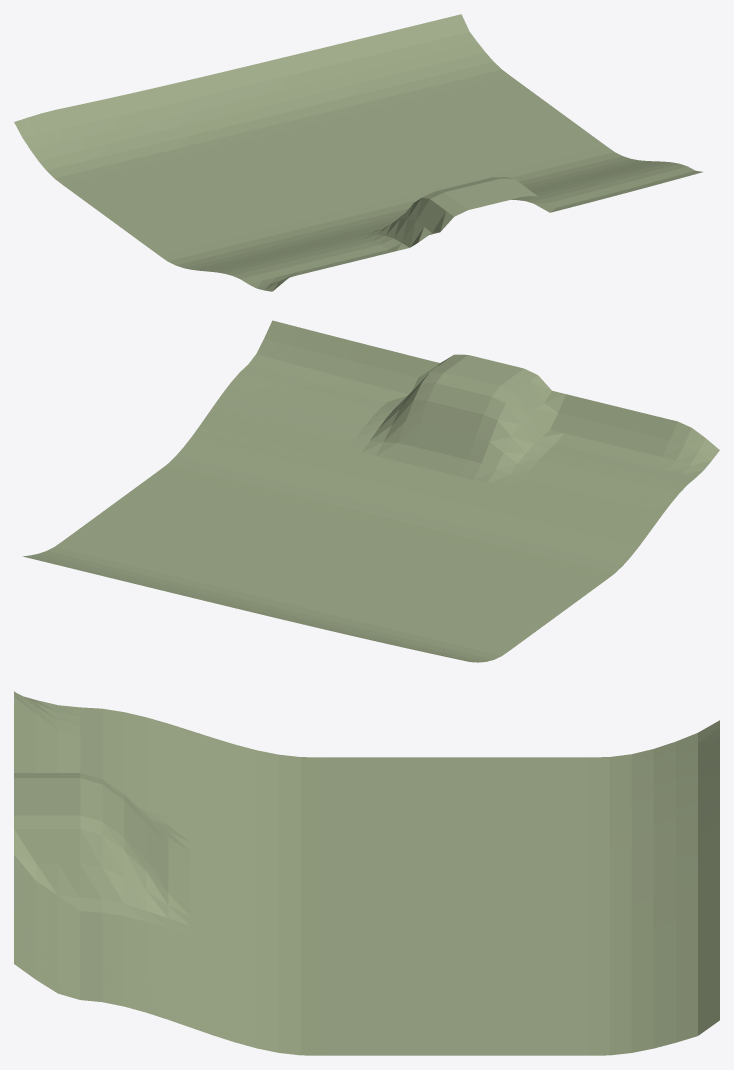
File: railway-1-1.glb
The picture shows the model from 3 angles, top to bottom: view 1: azimuth 30°, elevation 25°; view 2: azimuth 150°, elevation 25°; view 3: azimuth 270°, elevation 25°; orthographic projection. The views are drawn at different scales.
Visible parts, largest first — view 1: railway-1-1; view 2: railway-1-1; view 3: railway-1-1.
Part boxes in pixels (left/top/right/bottom): railway-1-1: left=14, top=14, right=702, bottom=291; railway-1-1: left=22, top=320, right=719, bottom=662; railway-1-1: left=14, top=691, right=719, bottom=1055.
Bounding box in the file's own units: 128 × 22 × 128.
